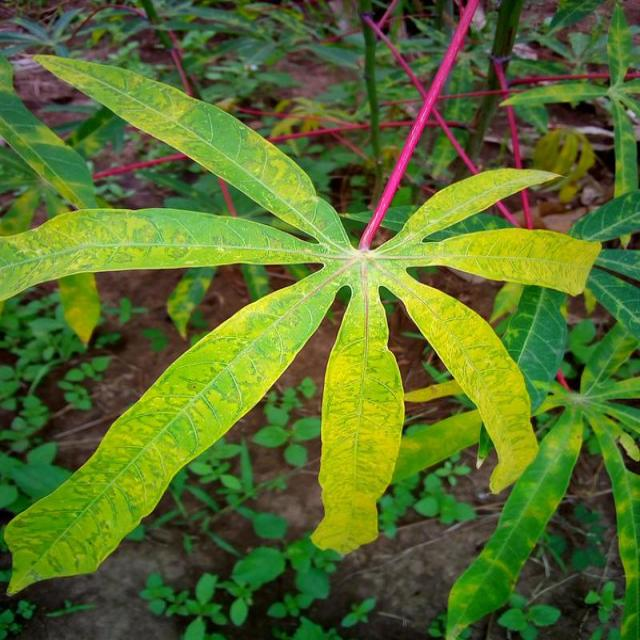cassava leaf: (2, 46, 600, 597)
